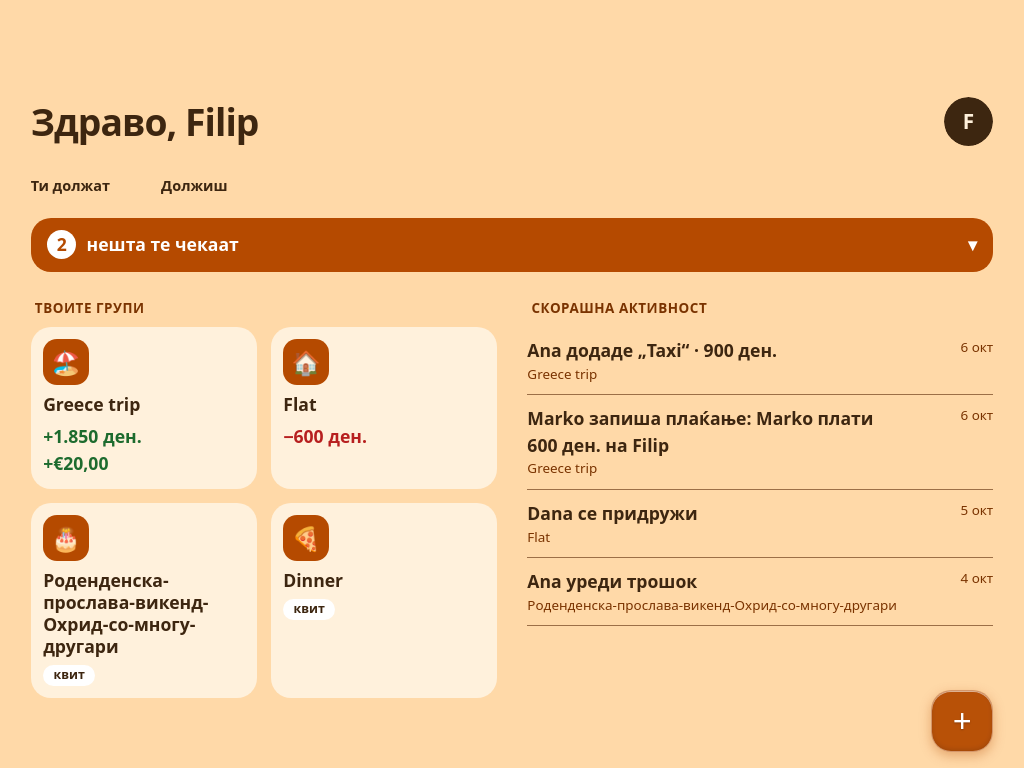
Test: a closing card › Object › titles the sheet "Object to closing" in mk
Check: the heading "Твоите групи" is shown, box [35, 299, 145, 317]
Click the button "2 нешта те чекаат ▾".
click(163, 244)  # box [31, 218, 993, 272]
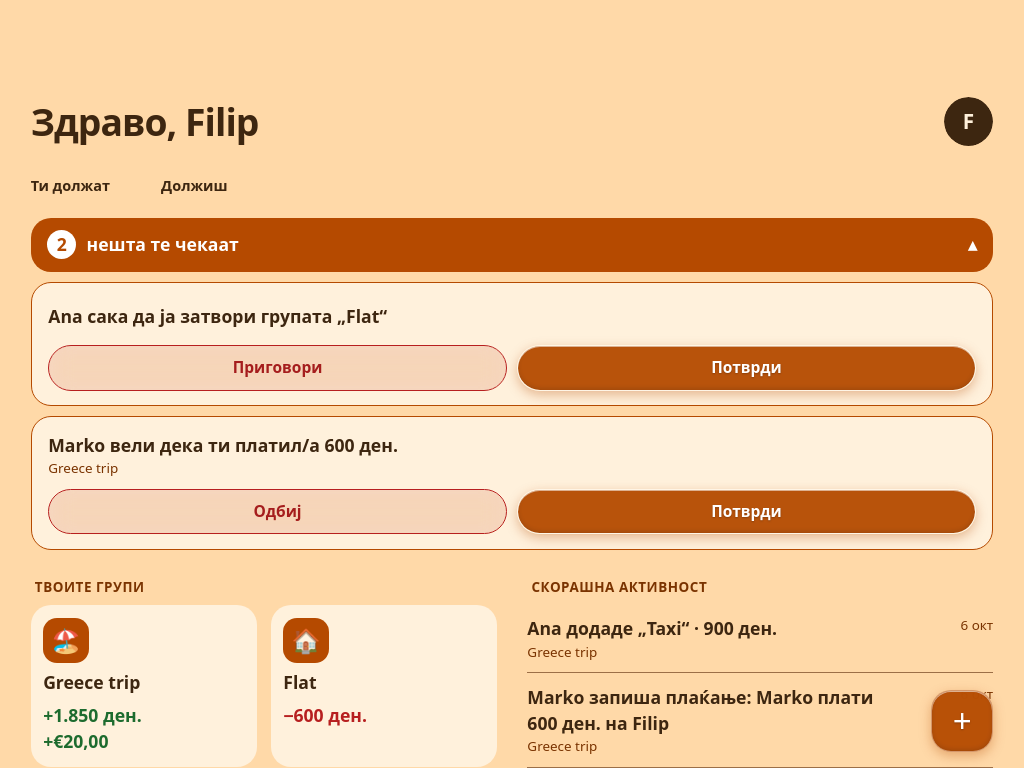
Click the button "Приговори".
click(278, 368)  # box [48, 345, 507, 390]
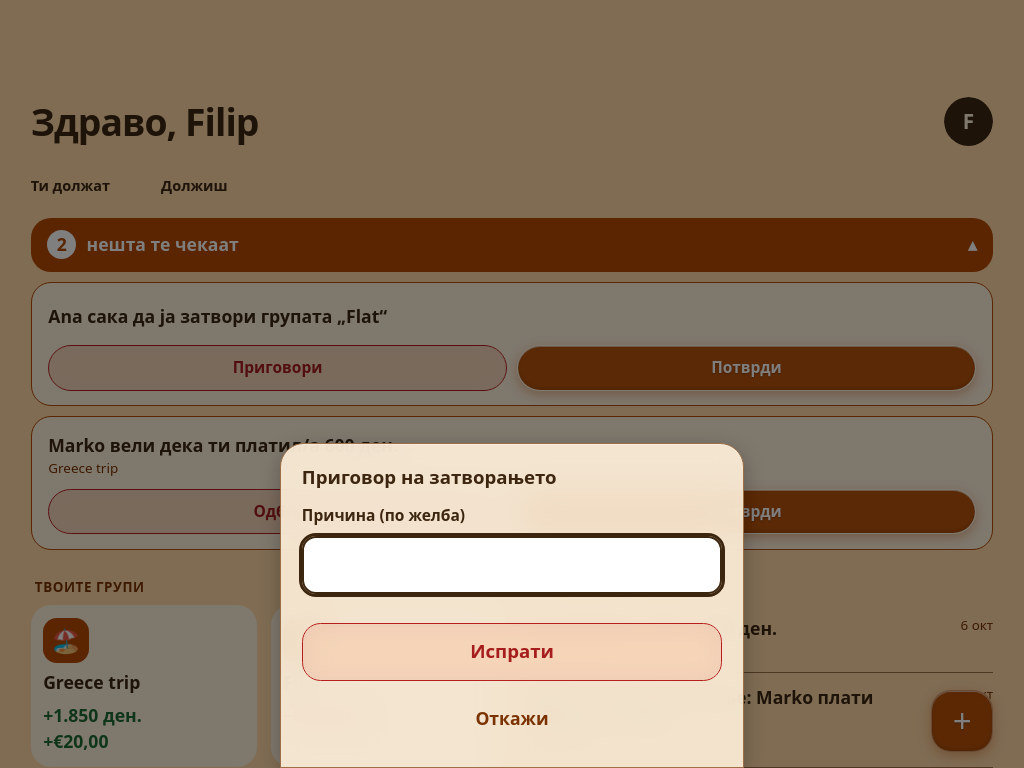
Check: the dialog "Приговор на затворањето" is shown, box [280, 443, 744, 767]
